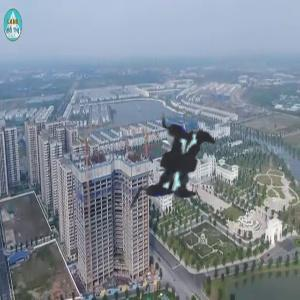drone: (71, 60, 275, 264)
